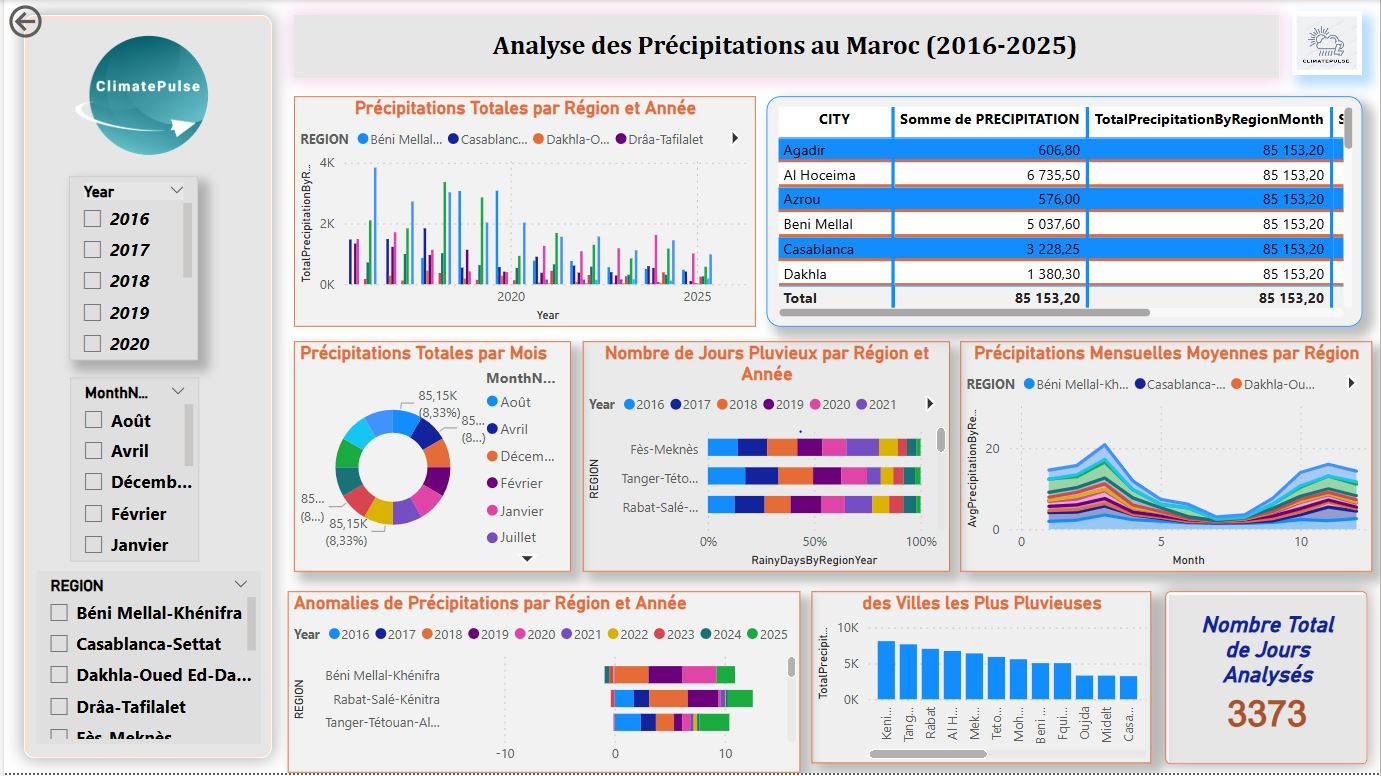

The page's visual inventory and layout, read from the dashboard file:
{"tool":"powerbi","page":{"name":"Précipitation","canvas":[1280,720],"ordinal":2},"visuals":[{"type":"shape","box":[18.1,14.2,230.8,691.1],"z":0},{"type":"shape","box":[269.5,14.2,916.7,59.3],"z":1000},{"type":"textbox","box":[292.7,21.9,710.4,42.5],"z":2000},{"type":"image","box":[29.7,14.2,208.9,149.6],"z":3000},{"type":"image","box":[1197.7,10.3,65.8,59.3],"z":4000},{"type":"slicer","fields":{"Values":["WEATHER_DATA.Year"]},"box":[60.6,163.7,119.9,171.5],"z":5000},{"type":"slicer","fields":{"Values":["WEATHER_DATA.MonthName"]},"box":[61.9,350.7,119.9,171.5],"z":6000},{"type":"slicer","fields":{"Values":["WEATHER_DATA.REGION"]},"box":[29.7,531.2,208.9,161.2],"z":7000},{"type":"lineClusteredColumnComboChart","title":"Précipitations Totales par Région et Année","fields":{"Category":["WEATHER_DATA.Year"],"Y":["WEATHER_DATA.TotalPrecipitationByRegionMonth"],"Series":["WEATHER_DATA.REGION"]},"box":[269.5,89,429.3,214],"z":8000},{"type":"donutChart","title":"Précipitations Totales par Mois","fields":{"Category":["WEATHER_DATA.MonthName"],"Y":["WEATHER_DATA.TotalPrecipitationByRegionMonth"]},"box":[269.5,317.2,257.9,214],"z":9000},{"type":"actionButton","box":[0,0,100,40],"z":10000},{"type":"barChart","title":"Anomalies de Précipitations par Région et Année","fields":{"Category":["WEATHER_DATA.REGION"],"Series":["WEATHER_DATA.Year"],"Y":["WEATHER_DATA.PrecipitationAnomalyByRegionYear"]},"box":[264.3,550.5,477,168.9],"z":11000},{"type":"shape","box":[1080.7,549.5,188.2,161.2],"z":12000},{"type":"card","title":"Nombre Total de Jours Analysés","fields":{"Values":["WEATHER_DATA.TotalDays"]},"box":[1096.2,568.8,157.3,118.6],"z":13000},{"type":"tableEx","fields":{"Values":["WEATHER_DATA.CITY","Sum(WEATHER_DATA.PRECIPITATION)","WEATHER_DATA.TotalPrecipitationByRegionMonth","Sum(WEATHER_DATA.Month)","WEATHER_DATA.GlobalAvgPrecipitation"]},"box":[709.1,89,554.4,214],"z":14000},{"type":"hundredPercentStackedBarChart","title":"Nombre de Jours Pluvieux par Région et Année","fields":{"Category":["WEATHER_DATA.REGION"],"Y":["WEATHER_DATA.RainyDaysByRegionYear"],"Series":["WEATHER_DATA.Year"]},"box":[538.9,317.2,341.7,214],"z":15000},{"type":"stackedAreaChart","title":"Précipitations Mensuelles Moyennes par Région","fields":{"Category":["WEATHER_DATA.Month"],"Y":["WEATHER_DATA.AvgPrecipitationByRegionMonth"],"Series":["WEATHER_DATA.REGION"]},"box":[889.6,317.2,382.9,214],"z":16000},{"type":"columnChart","title":"des Villes les Plus Pluvieuses","fields":{"Y":["WEATHER_DATA.TotalPrecipitationByCity"],"Category":["WEATHER_DATA.CITY"]},"box":[751.7,550.5,315.9,159.9],"z":17000}]}

Visuals, with their boxes on the page's 1280x720 design canvas (x1, y1, x2, y2). These are canvas units, not pixel positions in the 1381x776 screenshot, which may show the page scaled, cropped or inside an application window:
shape: 18, 14, 249, 705
shape: 270, 14, 1186, 74
textbox: 293, 22, 1003, 64
image: 30, 14, 239, 164
image: 1198, 10, 1264, 70
slicer - WEATHER_DATA.Year: 61, 164, 180, 335
slicer - WEATHER_DATA.MonthName: 62, 351, 182, 522
slicer - WEATHER_DATA.REGION: 30, 531, 239, 692
"Précipitations Totales par Région et Année" lineClusteredColumnComboChart: 270, 89, 699, 303
"Précipitations Totales par Mois" donutChart: 270, 317, 527, 531
actionButton: 0, 0, 100, 40
"Anomalies de Précipitations par Région et Année" barChart: 264, 550, 741, 719
shape: 1081, 550, 1269, 711
"Nombre Total de Jours Analysés" card: 1096, 569, 1254, 687
tableEx - WEATHER_DATA.CITY x Sum(WEATHER_DATA.PRECIPITATION): 709, 89, 1264, 303
"Nombre de Jours Pluvieux par Région et Année" hundredPercentStackedBarChart: 539, 317, 881, 531
"Précipitations Mensuelles Moyennes par Région" stackedAreaChart: 890, 317, 1272, 531
"des Villes les Plus Pluvieuses" columnChart: 752, 550, 1068, 710
